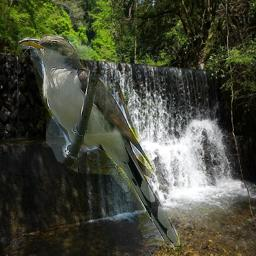Cuckoo: (18, 34, 180, 248)
